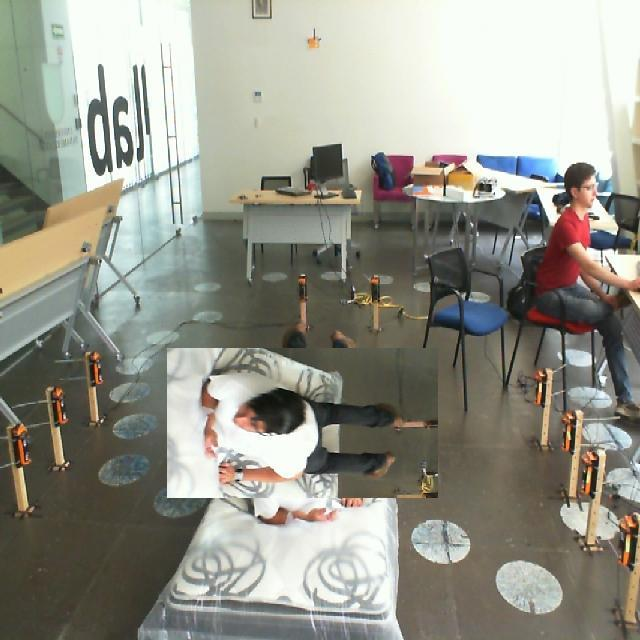Fall: (156, 330, 453, 500)
NotFall: (495, 165, 640, 398)
